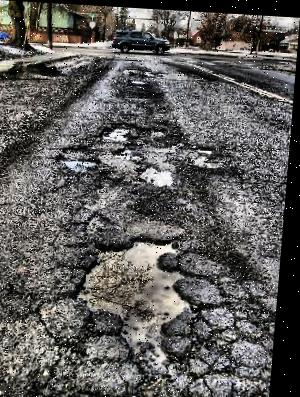pothole: (70, 226, 208, 372), (57, 143, 104, 172), (99, 117, 142, 142), (139, 162, 179, 188), (145, 120, 173, 144), (111, 140, 144, 158), (198, 142, 217, 152)
